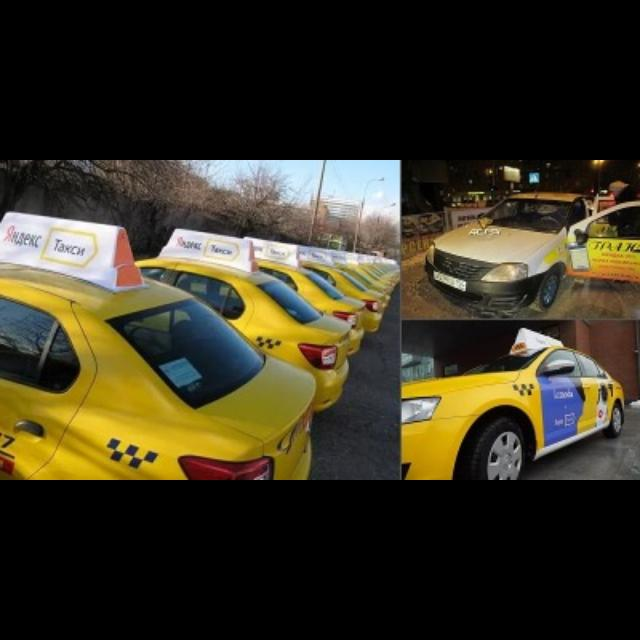taxi: (1, 211, 317, 479), (100, 224, 354, 421), (402, 327, 627, 479), (180, 238, 366, 364), (248, 244, 385, 341)
